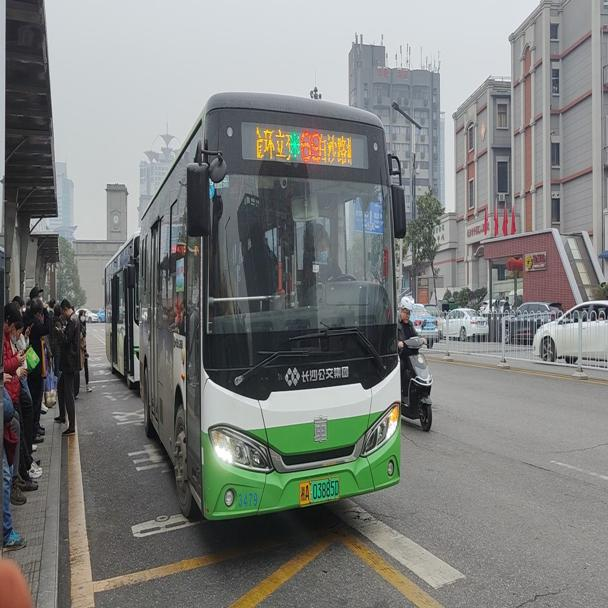bus: (137, 85, 406, 526), (102, 234, 137, 387)
screen: (297, 126, 322, 166)
